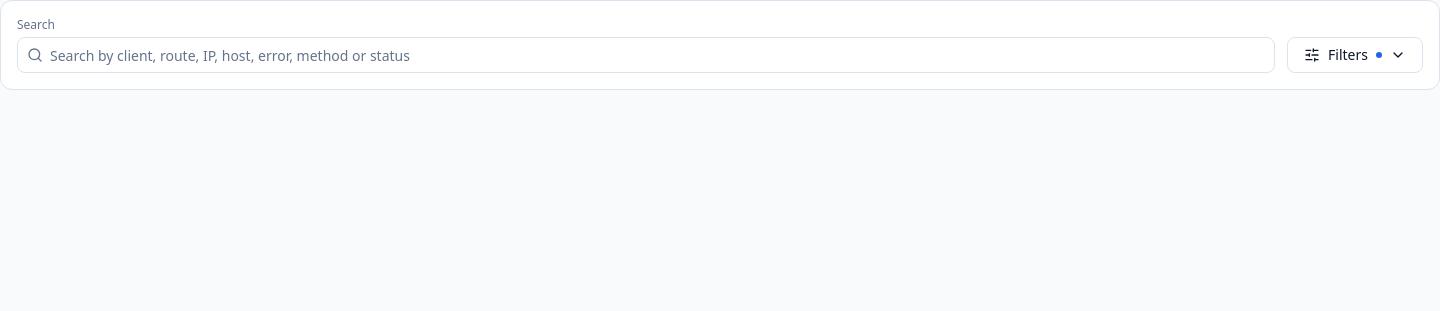
Test: RequestLogFilters › enables "Clear filters" when sortBy/sortOrder differ from the defaults
Click the button "Filters". click: (1355, 55)
box: [1287, 37, 1423, 73]
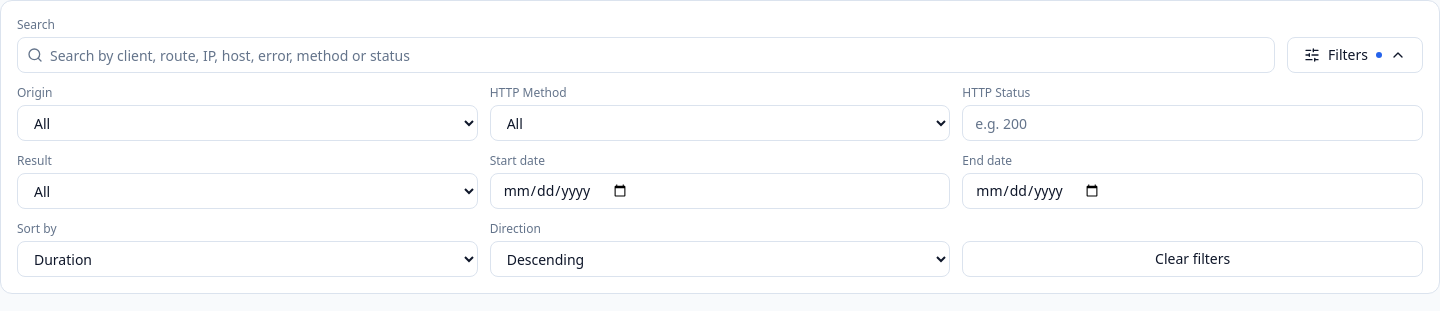
Expected: the button "Clear filters" is enabled, [962, 241, 1423, 277]
